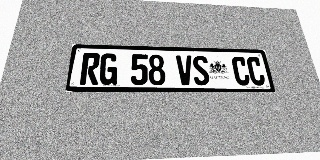5: (131, 54, 148, 85)
8: (148, 54, 166, 85)
C: (231, 56, 251, 86), (246, 57, 266, 86)
G: (99, 53, 118, 85)
R: (80, 53, 101, 85)
S: (192, 55, 210, 85)
V: (176, 55, 194, 85)
